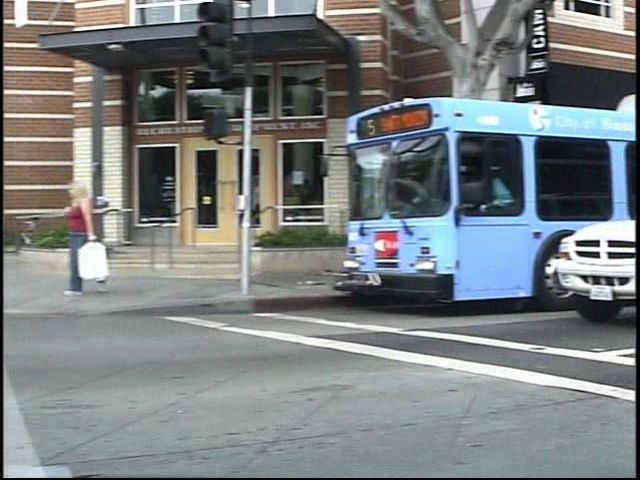person: (69, 179, 128, 306)
